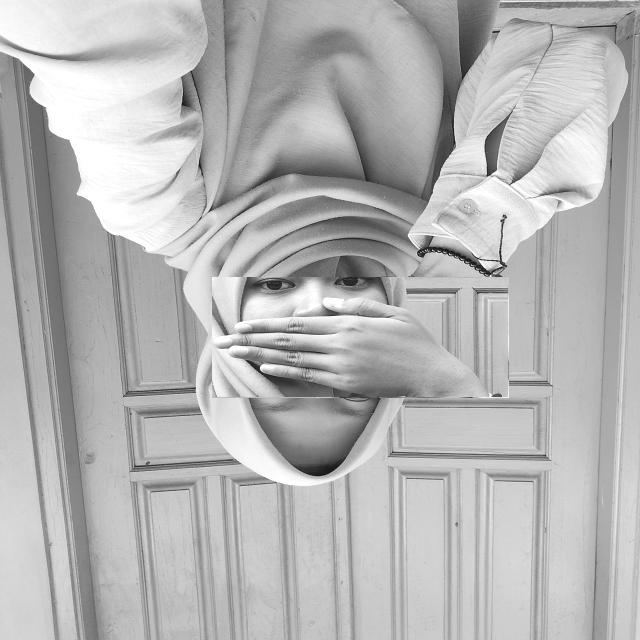buruk: (212, 277, 509, 398)
